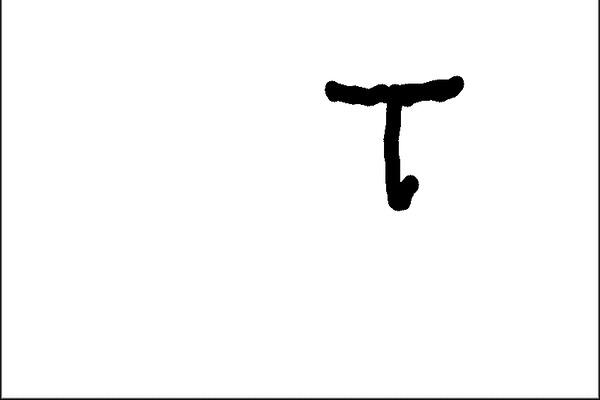T: (311, 65, 477, 215)
